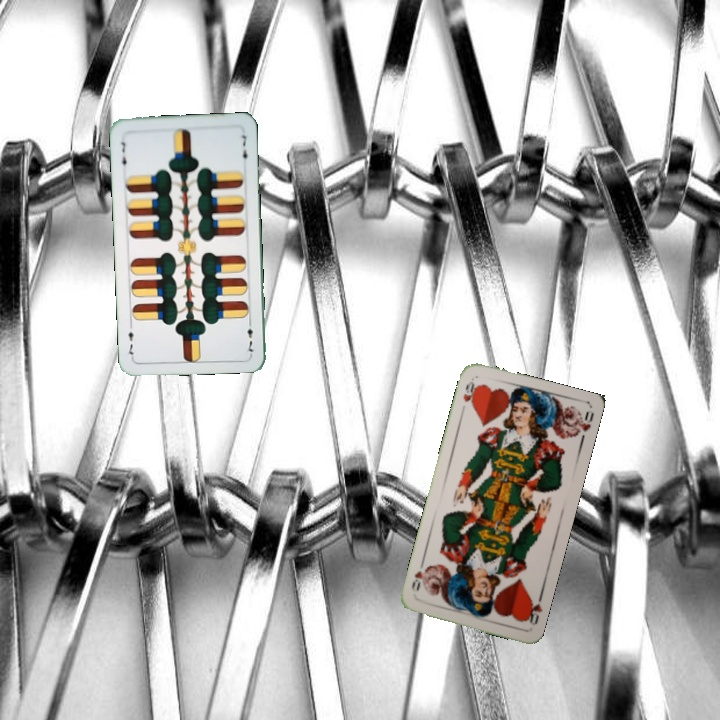E7: (243, 316, 256, 356), (117, 138, 129, 173)
HO: (522, 589, 545, 628), (459, 375, 480, 409)
